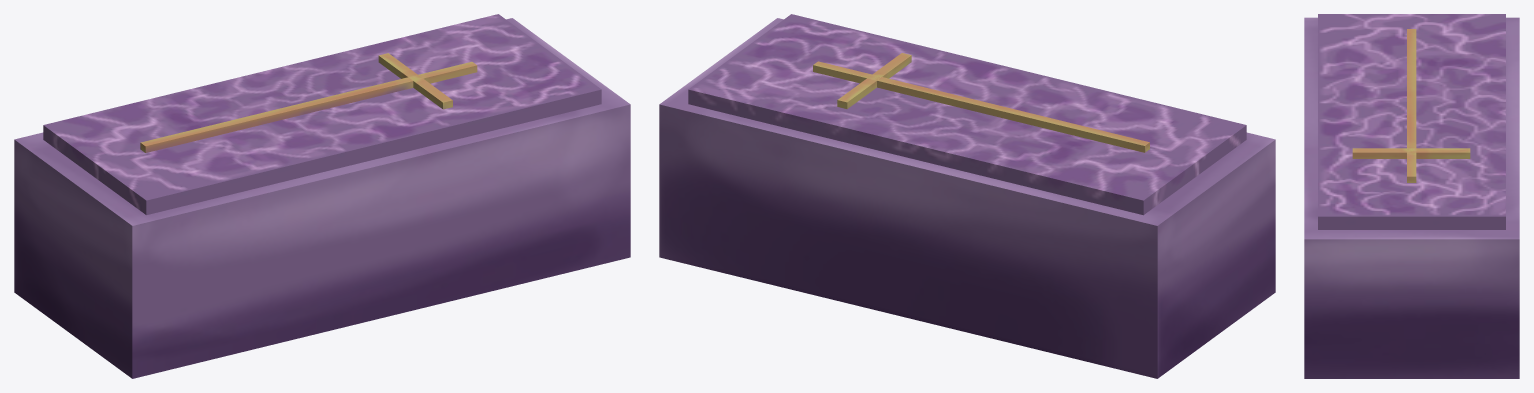
The model's file is tumulo1.fbx.
The picture shows the model from 3 angles, left to right: view 1: azimuth 30°, elevation 25°; view 2: azimuth 150°, elevation 25°; view 3: azimuth 270°, elevation 25°; orthographic projection. The views are drawn at different scales.
Parts seen in each view (by area): view 1: tumulo1; view 2: tumulo1; view 3: tumulo1.
Part boxes in pixels (x1,y1,x2,y2): tumulo1: (14, 14, 630, 378); tumulo1: (659, 14, 1275, 378); tumulo1: (1304, 14, 1519, 378).
Size of the model in its own units: 1101 by 369 by 453.
